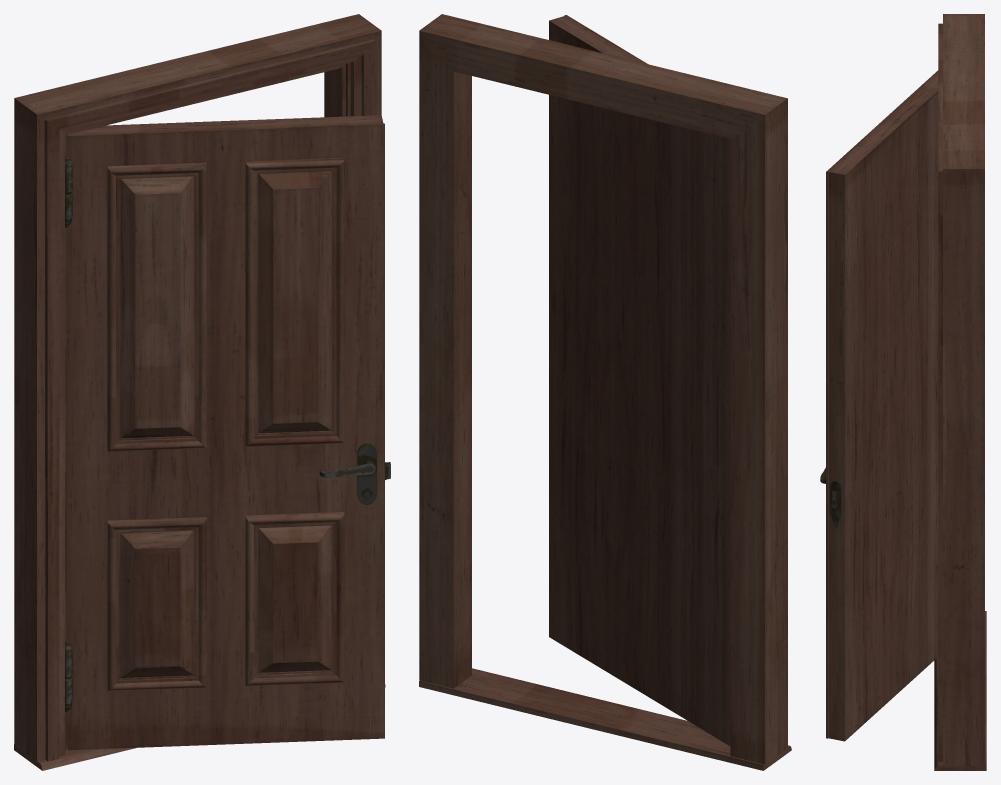
Rendered from Porta.fbx.
The picture shows the model from 3 angles, left to right: view 1: azimuth 30°, elevation 25°; view 2: azimuth 150°, elevation 25°; view 3: azimuth 270°, elevation 25°; orthographic projection. The views are drawn at different scales.
Visible parts, largest first — view 1: 10; view 2: 10; view 3: 10.
Part boxes in pixels (box(x1,y1,x2,y2)): 10: box(14, 14, 390, 770); 10: box(419, 14, 791, 770); 10: box(820, 14, 986, 770).
Bounding box in the file's own units: 101 × 183 × 45.71.
